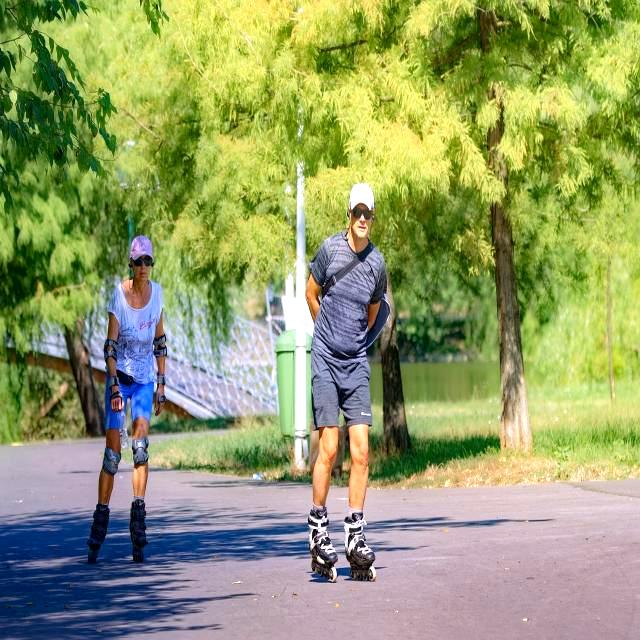no_hard_hat: (128, 236, 154, 266), (349, 184, 374, 212)
person: (306, 183, 386, 580), (87, 236, 167, 563)
